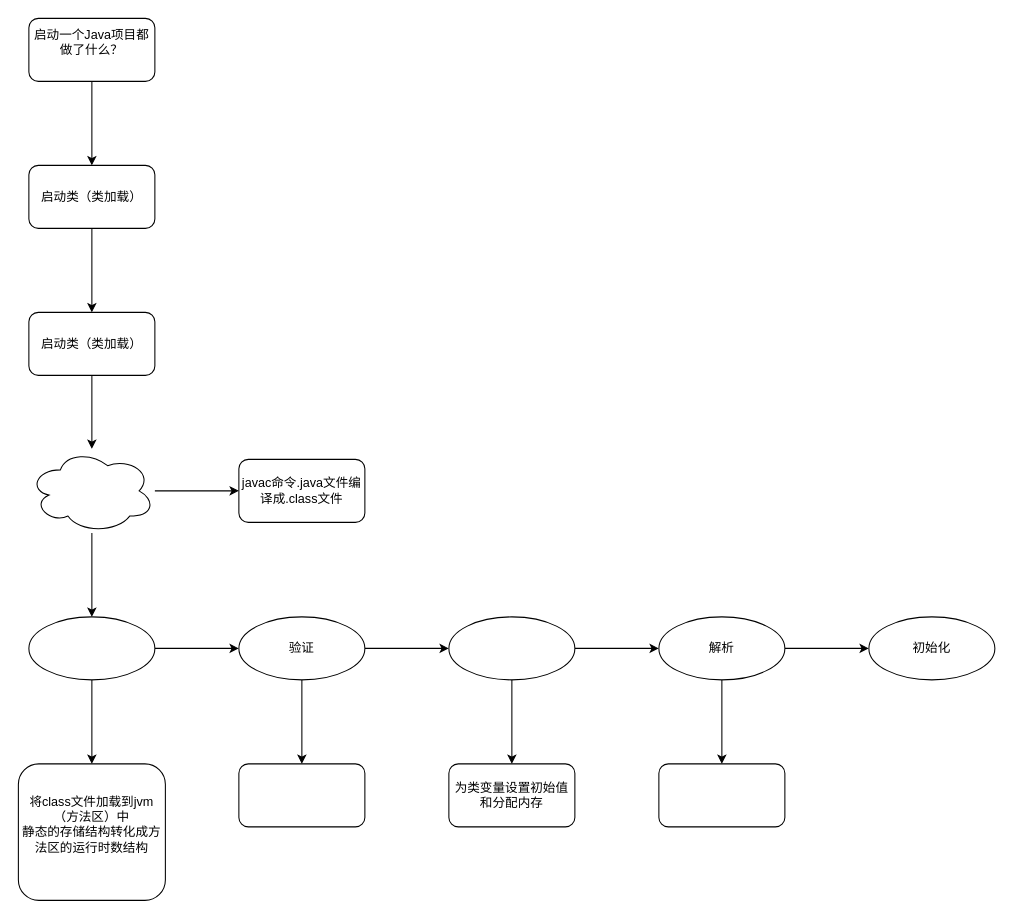
Some shapes in this 1013 by 919 pixel diagram are drawn without their labels. The shapes that lost their labels are listed below. From the top down, each one's box as (x1, y1, x2, y2) in pixels, then its label:
(28, 448, 155, 533): 类加载有些过程？
(28, 616, 155, 680): 加载
(448, 616, 575, 680): 准备
(238, 763, 365, 827): 验证class文件是否符合虚拟机要求
(658, 763, 785, 827): 将常量池的符号引用转边成直接引用
